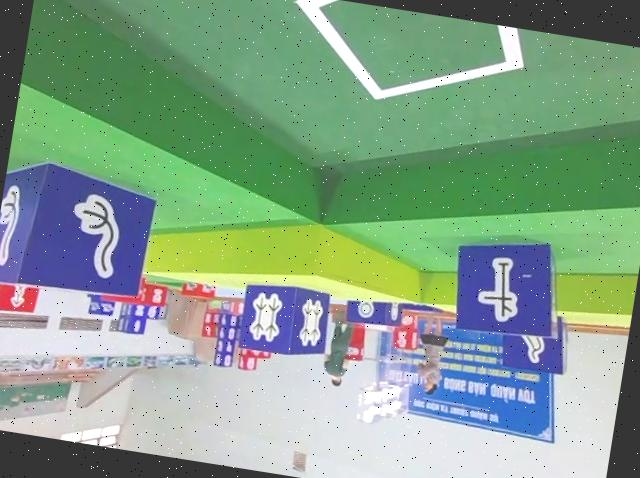R2 Real Blue: (0, 154, 156, 308), (446, 228, 570, 345), (236, 277, 331, 361), (498, 307, 574, 378), (345, 294, 405, 331)
